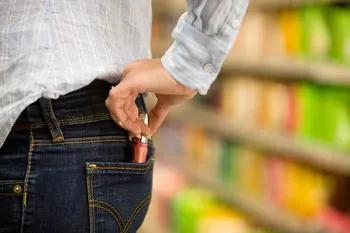shoplifting: (44, 10, 247, 217)
